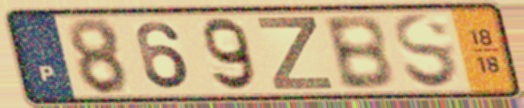6: (132, 20, 192, 91)
8: (65, 14, 132, 99)
9: (201, 15, 260, 93)
B: (320, 12, 399, 92)
S: (390, 11, 463, 92)
Z: (253, 15, 337, 92)
